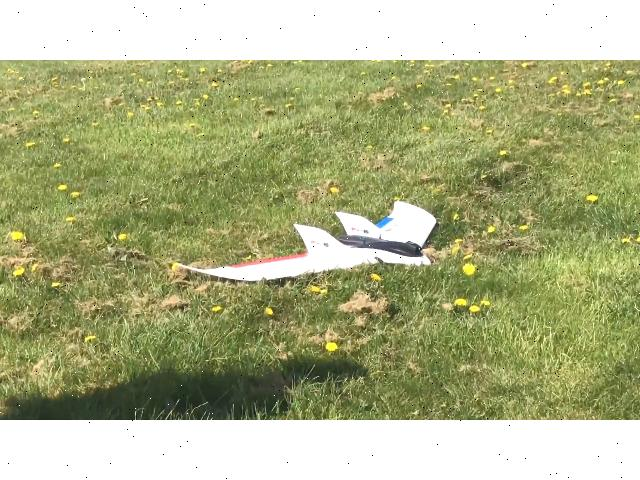Anti-Drone: (176, 194, 442, 304)
